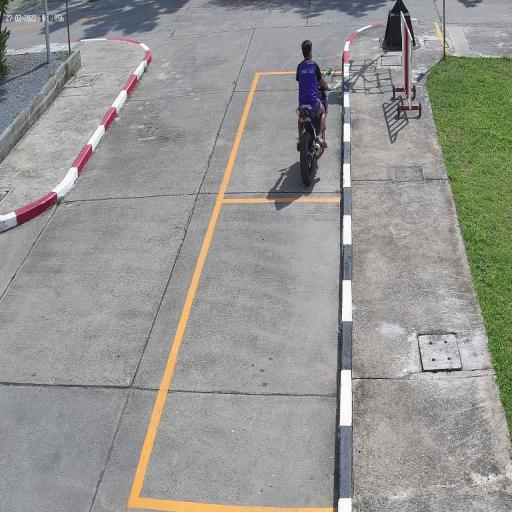motorcycle: (296, 102, 324, 190)
